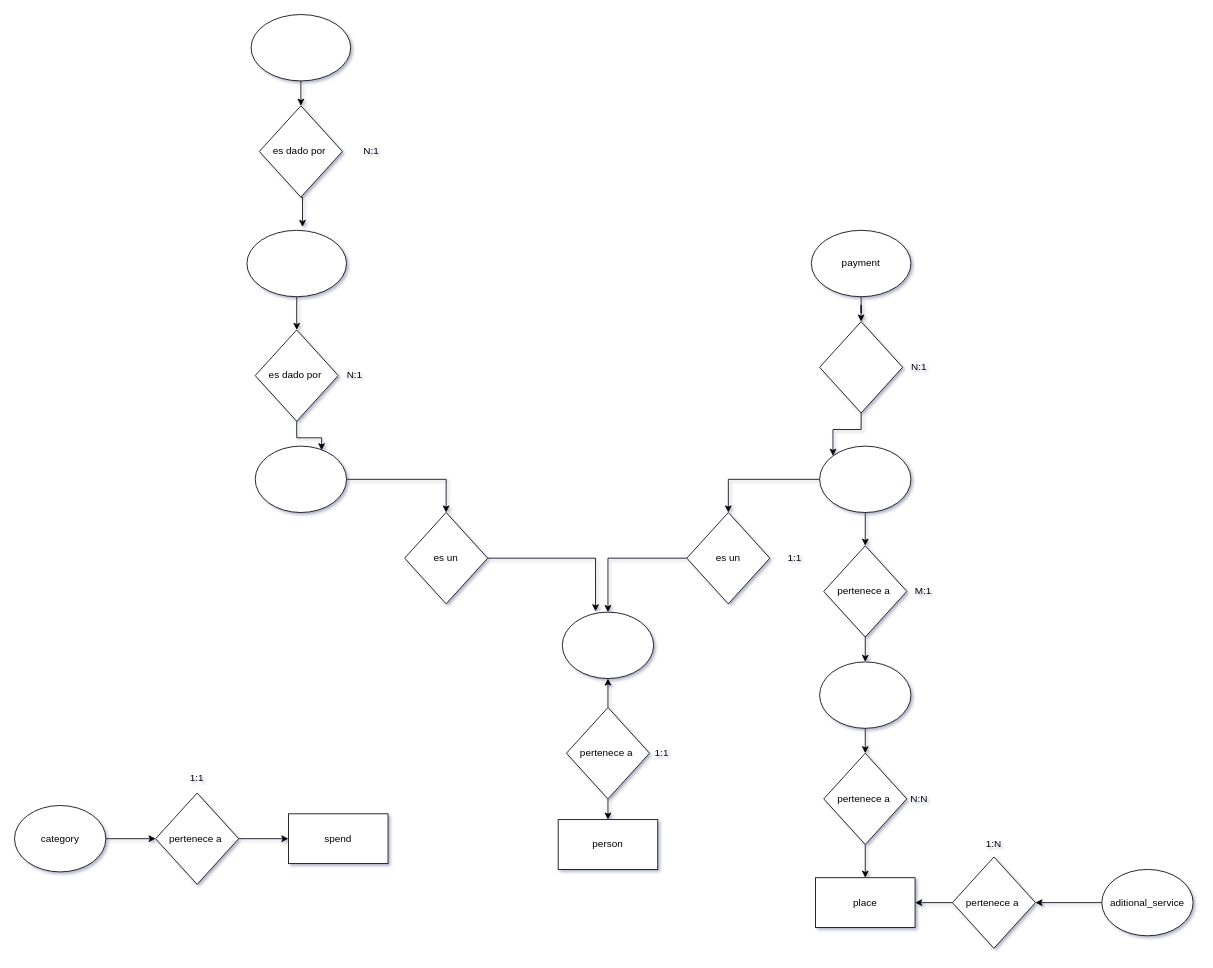
This 1213x968 diagram has some shape labels left out. Each missing label, with the centre of its shape:
"client" belongs at (x=300, y=479).
"contrato" belongs at (x=296, y=263).
"employee" belongs at (x=865, y=479).
"es dado a un" belongs at (x=861, y=367).
"income" belongs at (x=300, y=47).
"role" belongs at (x=607, y=645).
"vehicle" belongs at (x=865, y=694).
